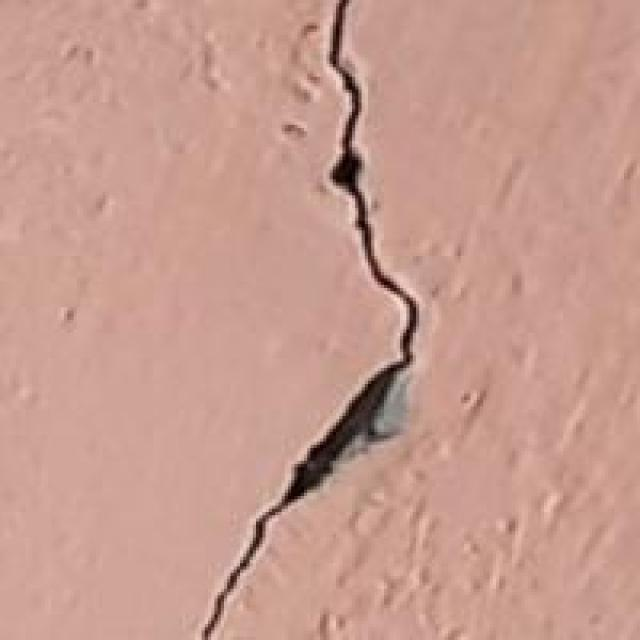crack: (192, 0, 448, 637)
